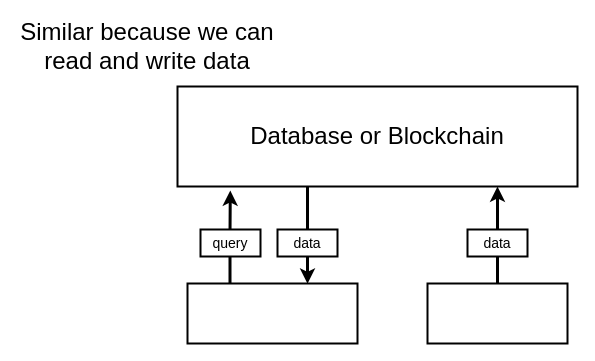
Image size: 595x361. Some labels were removed from this diagram. Each missing label, with the centre of its shape:
Read Requests: the point at 272,313
Write Requests: the point at 497,313
